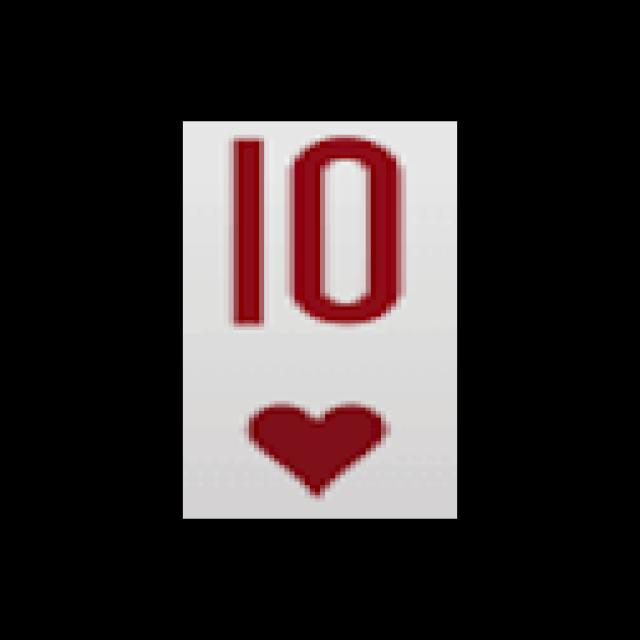10H: (199, 130, 431, 507)
